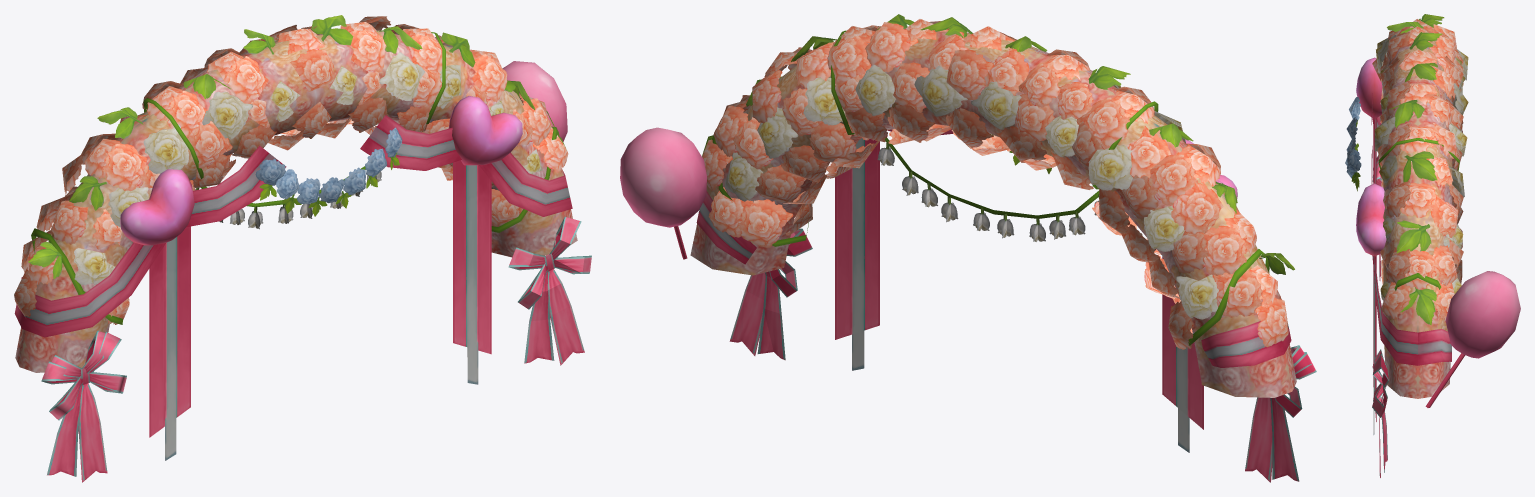
Rendered from jiehun_gongmen_b.FBX.
The picture shows the model from 3 angles, left to right: view 1: azimuth 30°, elevation 25°; view 2: azimuth 150°, elevation 25°; view 3: azimuth 270°, elevation 25°; orthographic projection. The views are drawn at different scales.
Parts seen in each view (by area): view 1: jiehun_gongmen_b; view 2: jiehun_gongmen_b; view 3: jiehun_gongmen_b.
Part boxes in pixels (x1,y1,x2,y2): jiehun_gongmen_b: (14,15,591,482); jiehun_gongmen_b: (620,14,1316,482); jiehun_gongmen_b: (1345,14,1520,477).
Size of the model in its own units: 161 by 101 by 48.57.
Materials: 1 (1 with a texture image).
